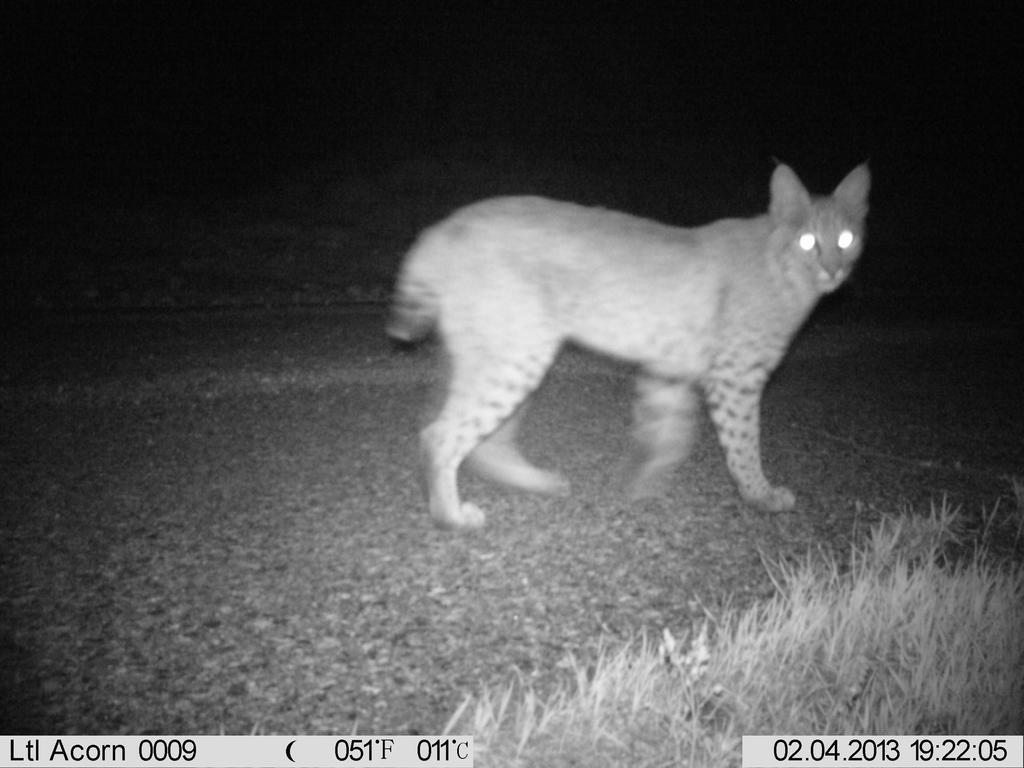bobcat: (370, 140, 894, 587)
